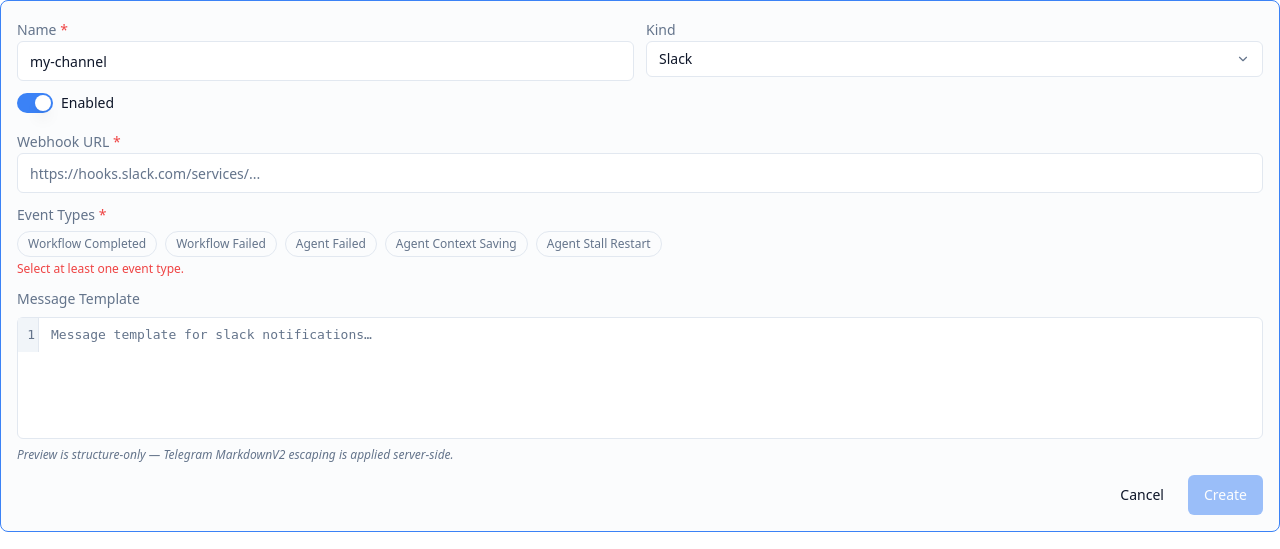
it: NotificationChannelForm › save enabled after selecting event type, re-disabled after deselecting last one
Check: the button "Create" is disabled, box [1188,475,1263,515]
Click the button "Workflow Completed": coordinates (87, 244) [17,231,157,257]
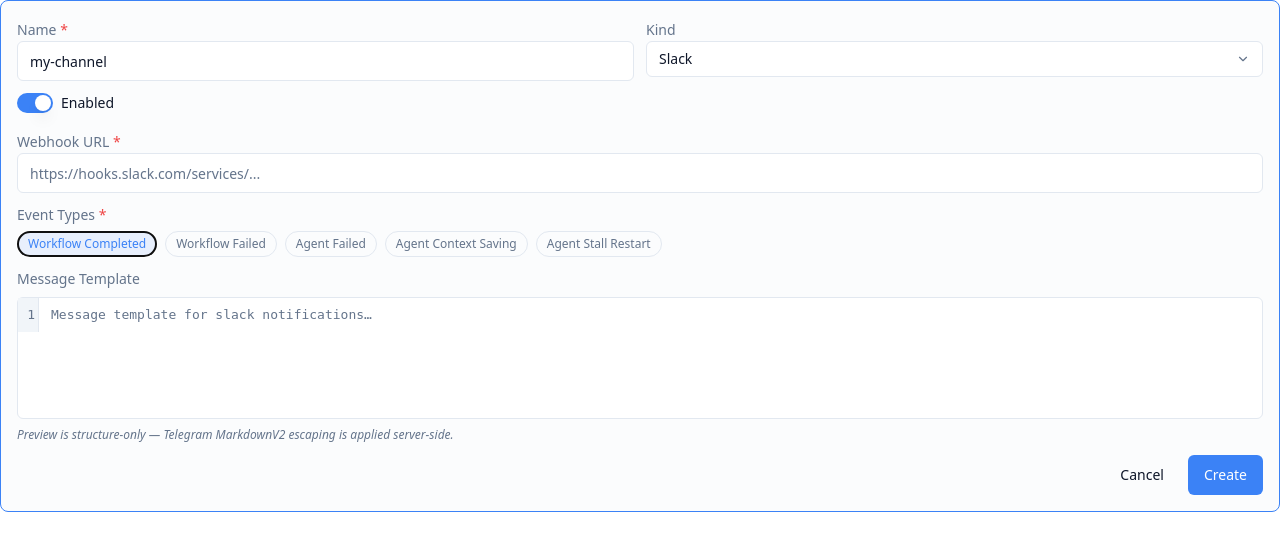
Check: the button "Create" is enabled, box [1188,455,1263,495]
Note: Deselect the only event type → save becomes disabled again
Click the button "Workflow Completed": coordinates (87, 244) [17,231,157,257]
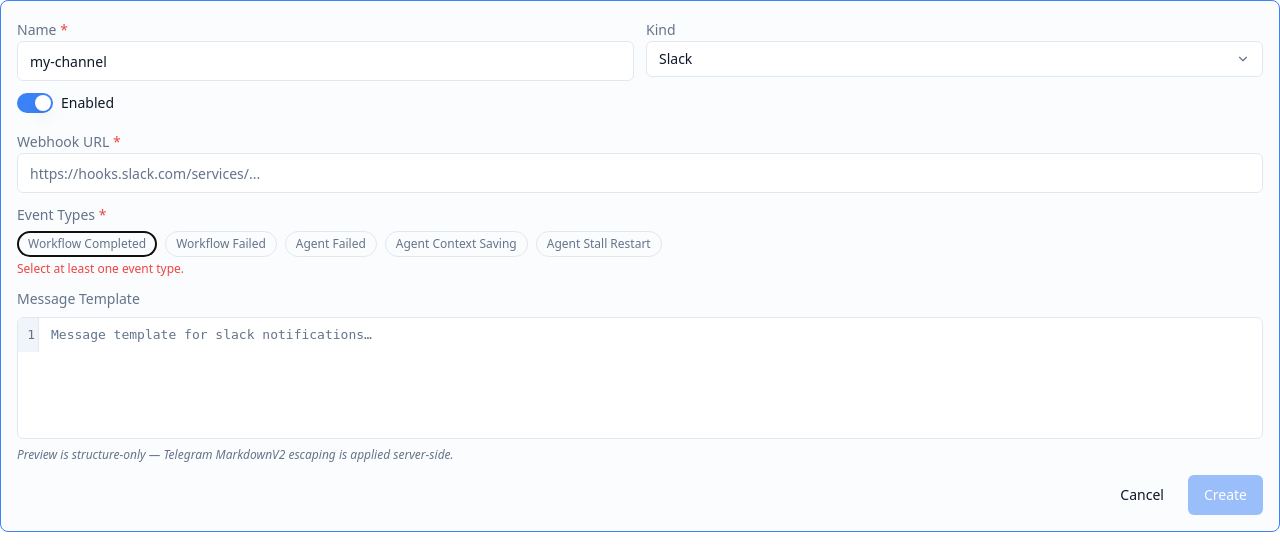
Check: the button "Create" is disabled, box [1188,475,1263,515]
